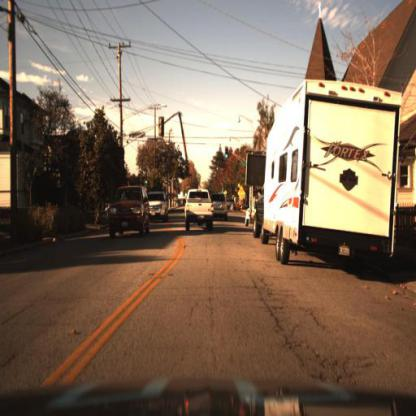car: (106, 183, 153, 244), (182, 185, 215, 232), (148, 186, 171, 225), (211, 189, 231, 226)
trafficLight-Green: (224, 142, 232, 162)
truck: (253, 77, 406, 270), (261, 78, 406, 267)
